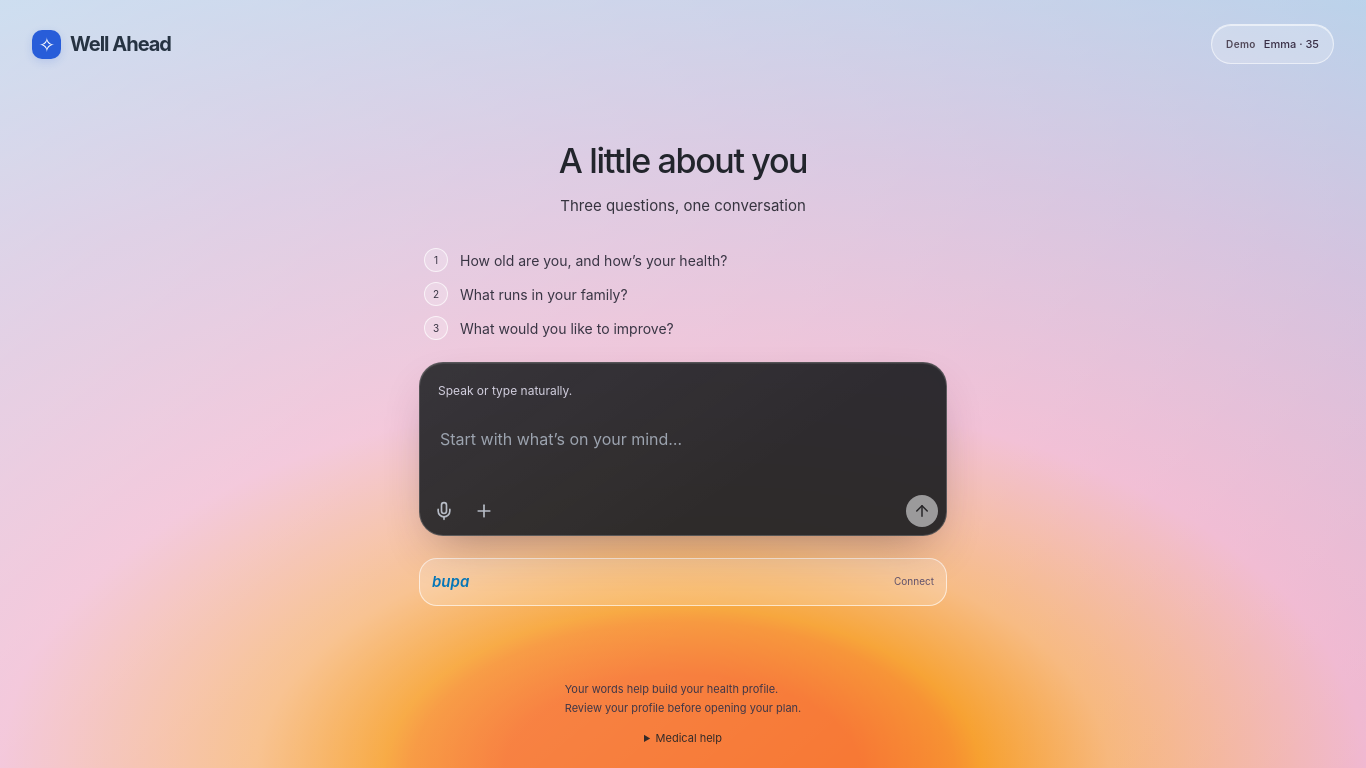
Test: server failure leaves the story review intact without exposing error bodies
Type "I am 56. I enjoy walking." into the text box. click: (683, 452)
box: x1=428 y1=417 x2=938 y2=487
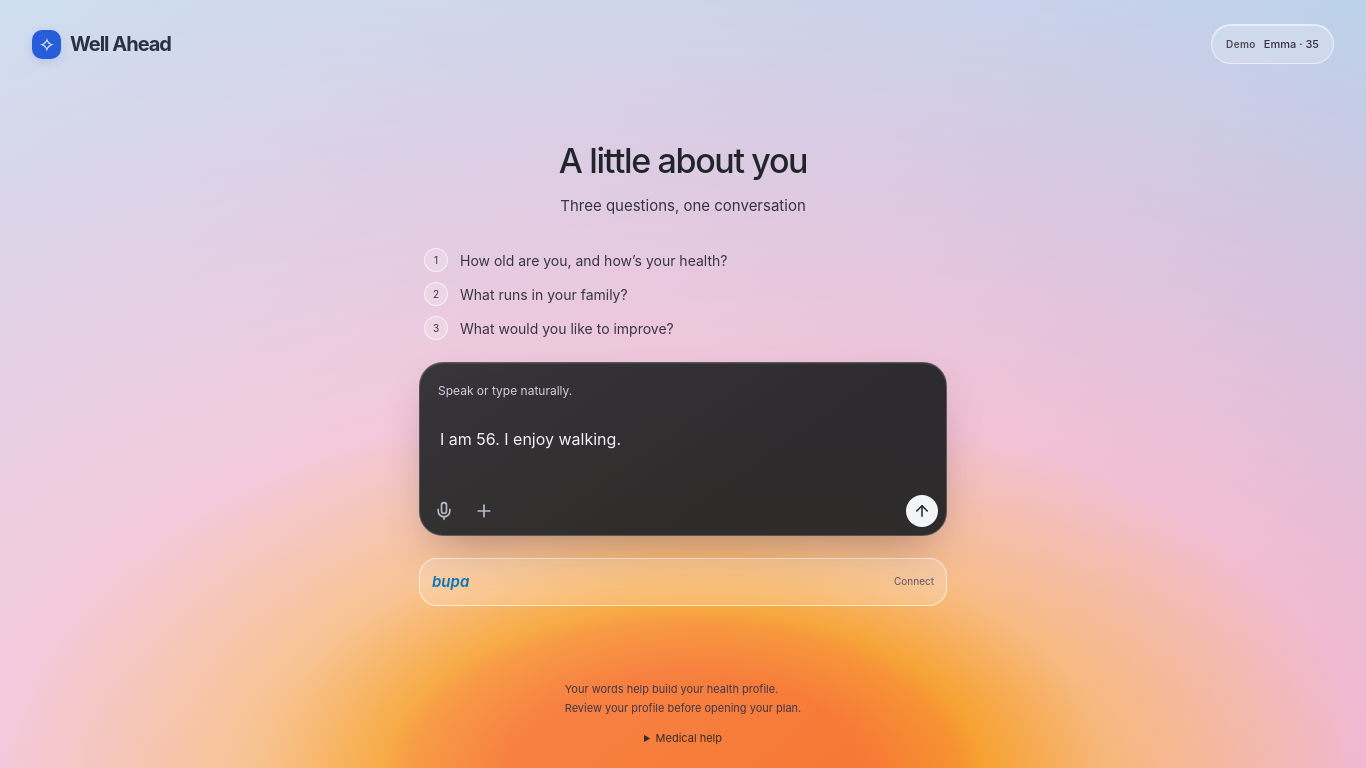
Click the button named "Review my health profile". click: (922, 511)
box: x1=906 y1=495 x2=938 y2=527
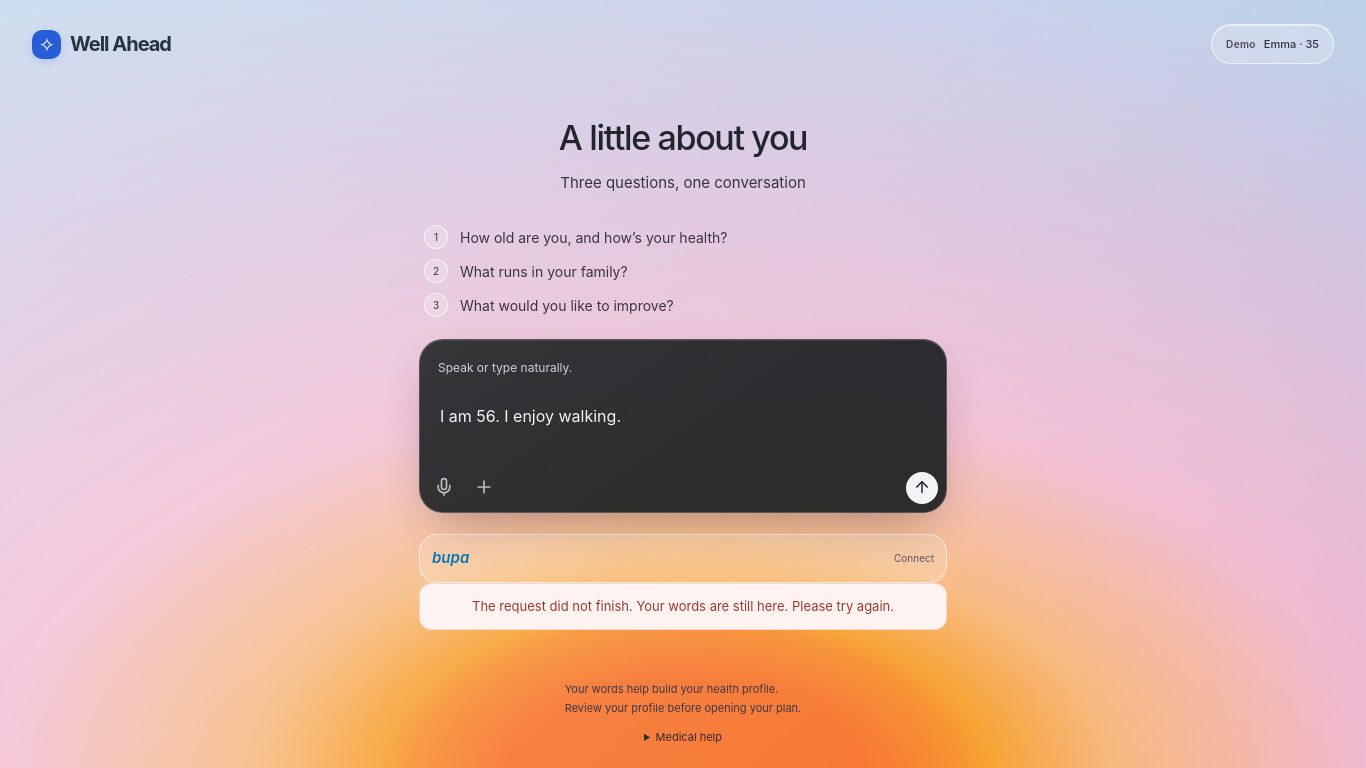
Check: the message "The request did not finish. Your words are still here. Please try again." is shown, box x1=419 y1=583 x2=947 y2=630
